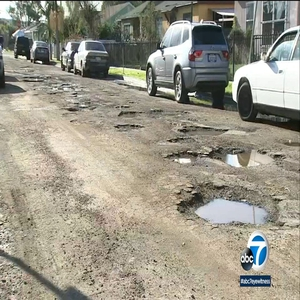pothole: (178, 184, 286, 230), (210, 146, 289, 171), (165, 148, 205, 165), (176, 128, 232, 136)
